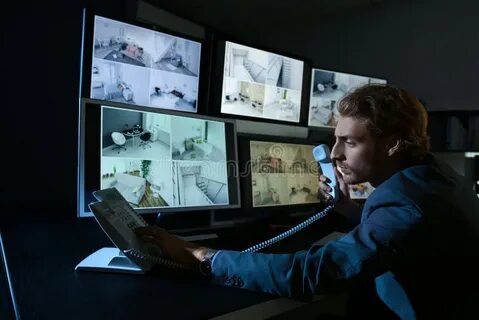awake: (316, 84, 478, 320)
